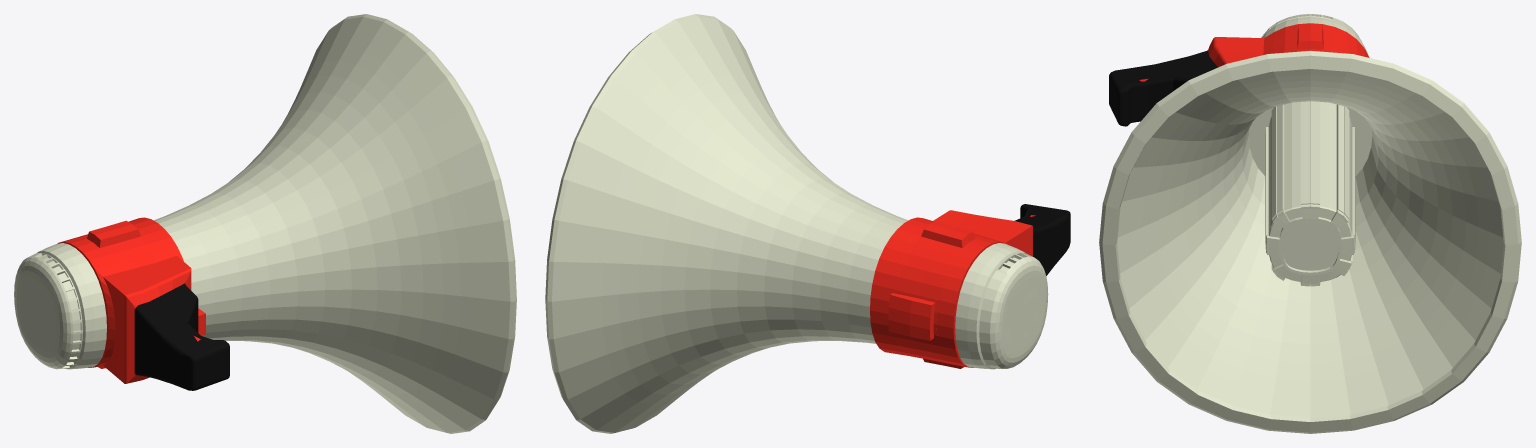
File: megafono.fbx
The picture shows the model from 3 angles, left to right: view 1: azimuth 30°, elevation 25°; view 2: azimuth 150°, elevation 25°; view 3: azimuth 270°, elevation 25°; orthographic projection.
Visible parts, largest first — view 1: Cube; view 2: Cube; view 3: Cube.
Part boxes in pixels (x1,y1,x2,y2): Cube: [14, 14, 516, 433]; Cube: [545, 14, 1070, 433]; Cube: [1099, 14, 1521, 433].
Bounding box in the file's own units: 321 × 311 × 311.
